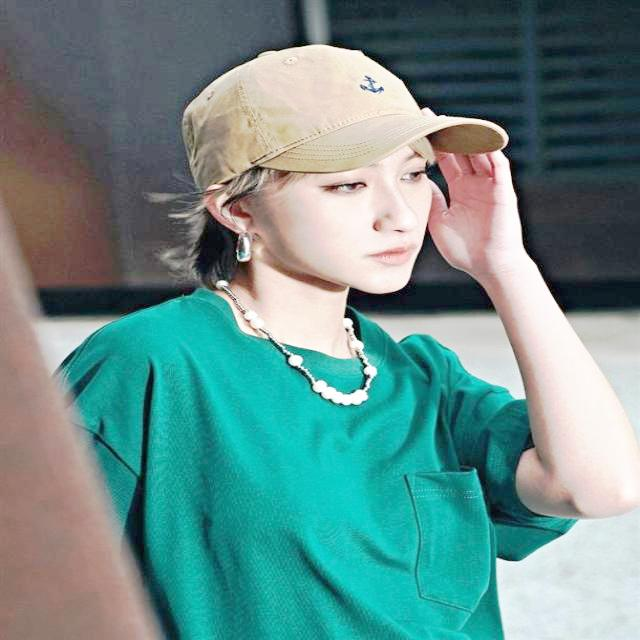TOPI: (179, 40, 513, 190)
